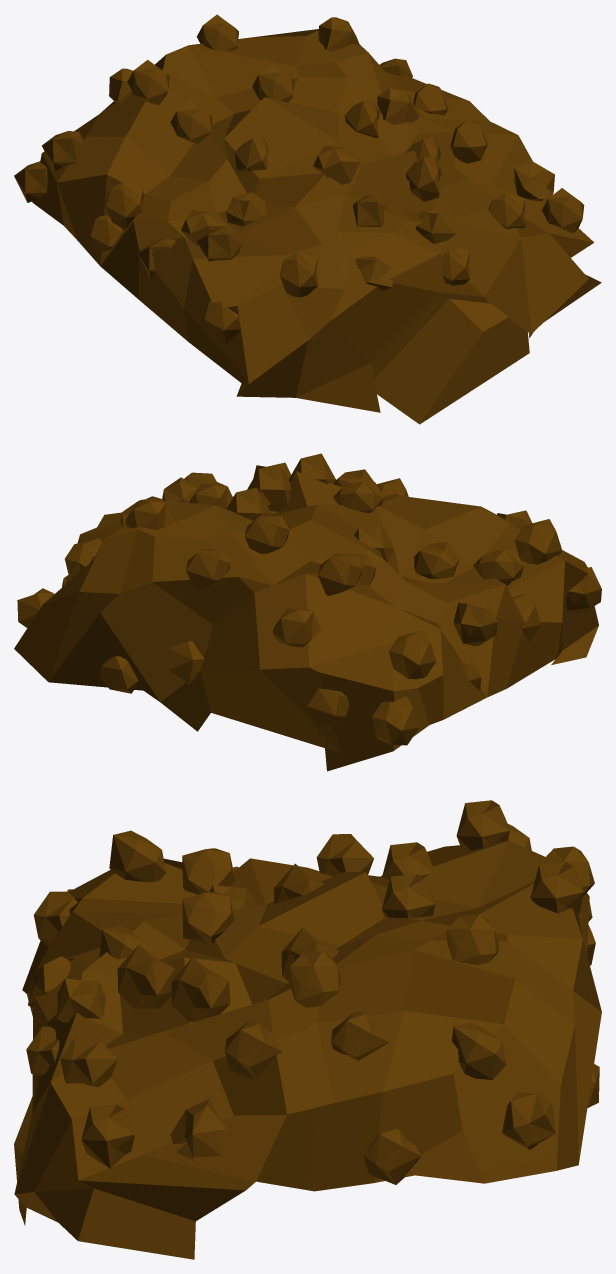
File: SM_Veh_Popcorn_Cart_Popcorn_Pile_01.obj
The picture shows the model from 3 angles, top to bottom: view 1: azimuth 30°, elevation 25°; view 2: azimuth 150°, elevation 25°; view 3: azimuth 270°, elevation 25°; orthographic projection. The views are drawn at different scales.
Parts seen in each view (by area): view 1: SM_Veh_Popcorn_Cart_Popcorn_Pile_01_0; view 2: SM_Veh_Popcorn_Cart_Popcorn_Pile_01_0; view 3: SM_Veh_Popcorn_Cart_Popcorn_Pile_01_0.
Boxes of the visible parts, bbox=[...] form: SM_Veh_Popcorn_Cart_Popcorn_Pile_01_0: bbox=[14, 14, 601, 424]; SM_Veh_Popcorn_Cart_Popcorn_Pile_01_0: bbox=[14, 453, 601, 771]; SM_Veh_Popcorn_Cart_Popcorn_Pile_01_0: bbox=[14, 800, 601, 1259].
Size of the model in its own units: 0.5146 by 0.3205 by 0.4878.
